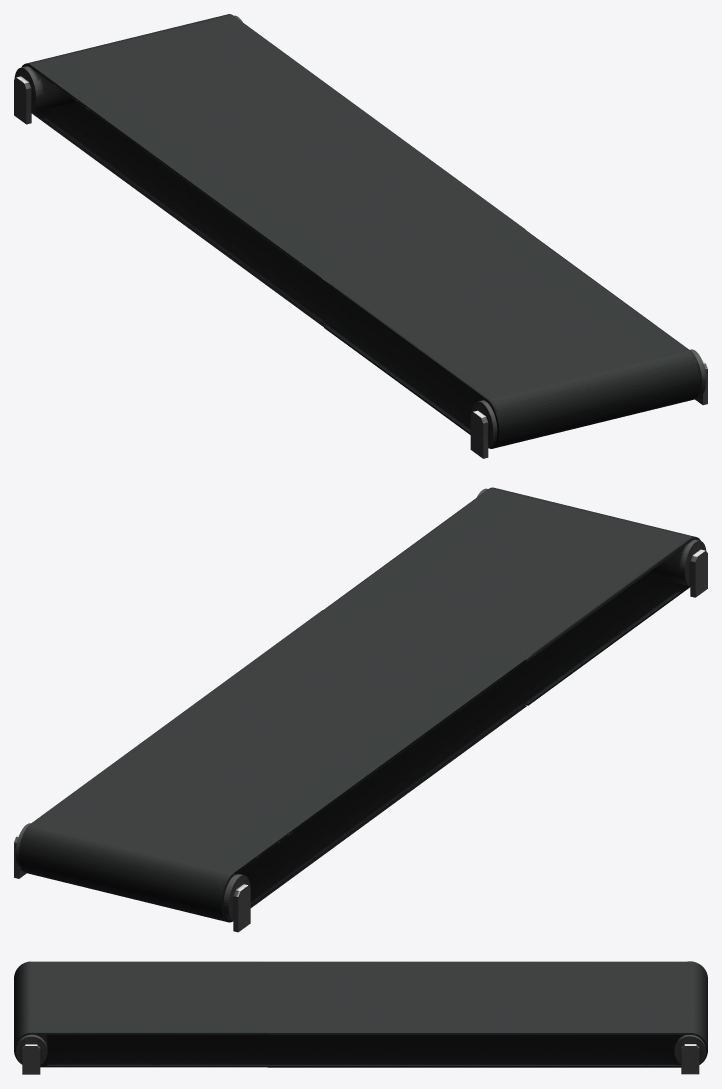
The picture shows the model from 3 angles, top to bottom: view 1: azimuth 30°, elevation 25°; view 2: azimuth 150°, elevation 25°; view 3: azimuth 270°, elevation 25°; orthographic projection. The views are drawn at different scales.
Visible parts, largest first — view 1: Cylinder; view 2: Cylinder; view 3: Cylinder.
Boxes of the visible parts, bbox=[...] form: Cylinder: bbox=[14, 14, 707, 458]; Cylinder: bbox=[14, 487, 707, 932]; Cylinder: bbox=[14, 961, 707, 1074].
Size of the model in its own units: 11.88 by 44.03 by 2.64.
Materials: 1 (1 with a texture image).
